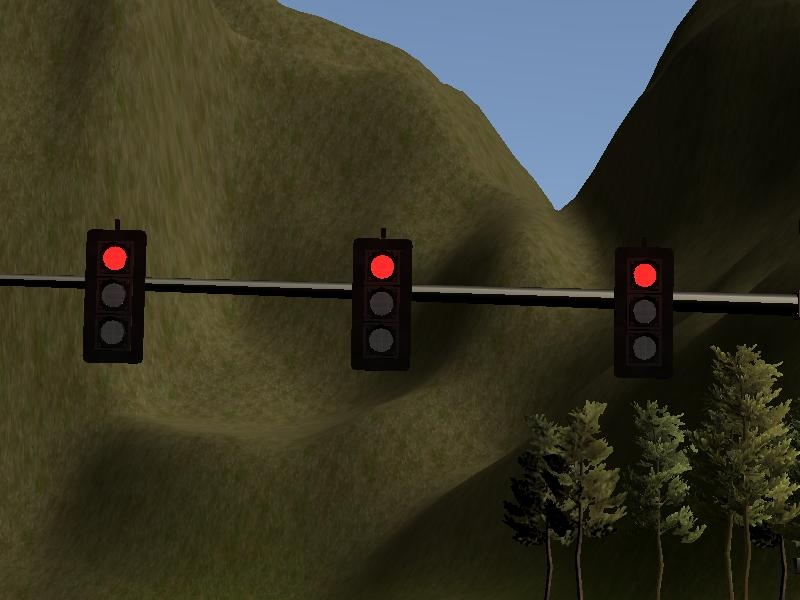red: (346, 232, 421, 375), (80, 223, 148, 367), (610, 243, 675, 387)
